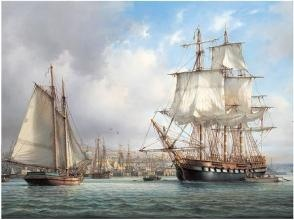fanchuan: (138, 21, 288, 184), (7, 63, 93, 187)
